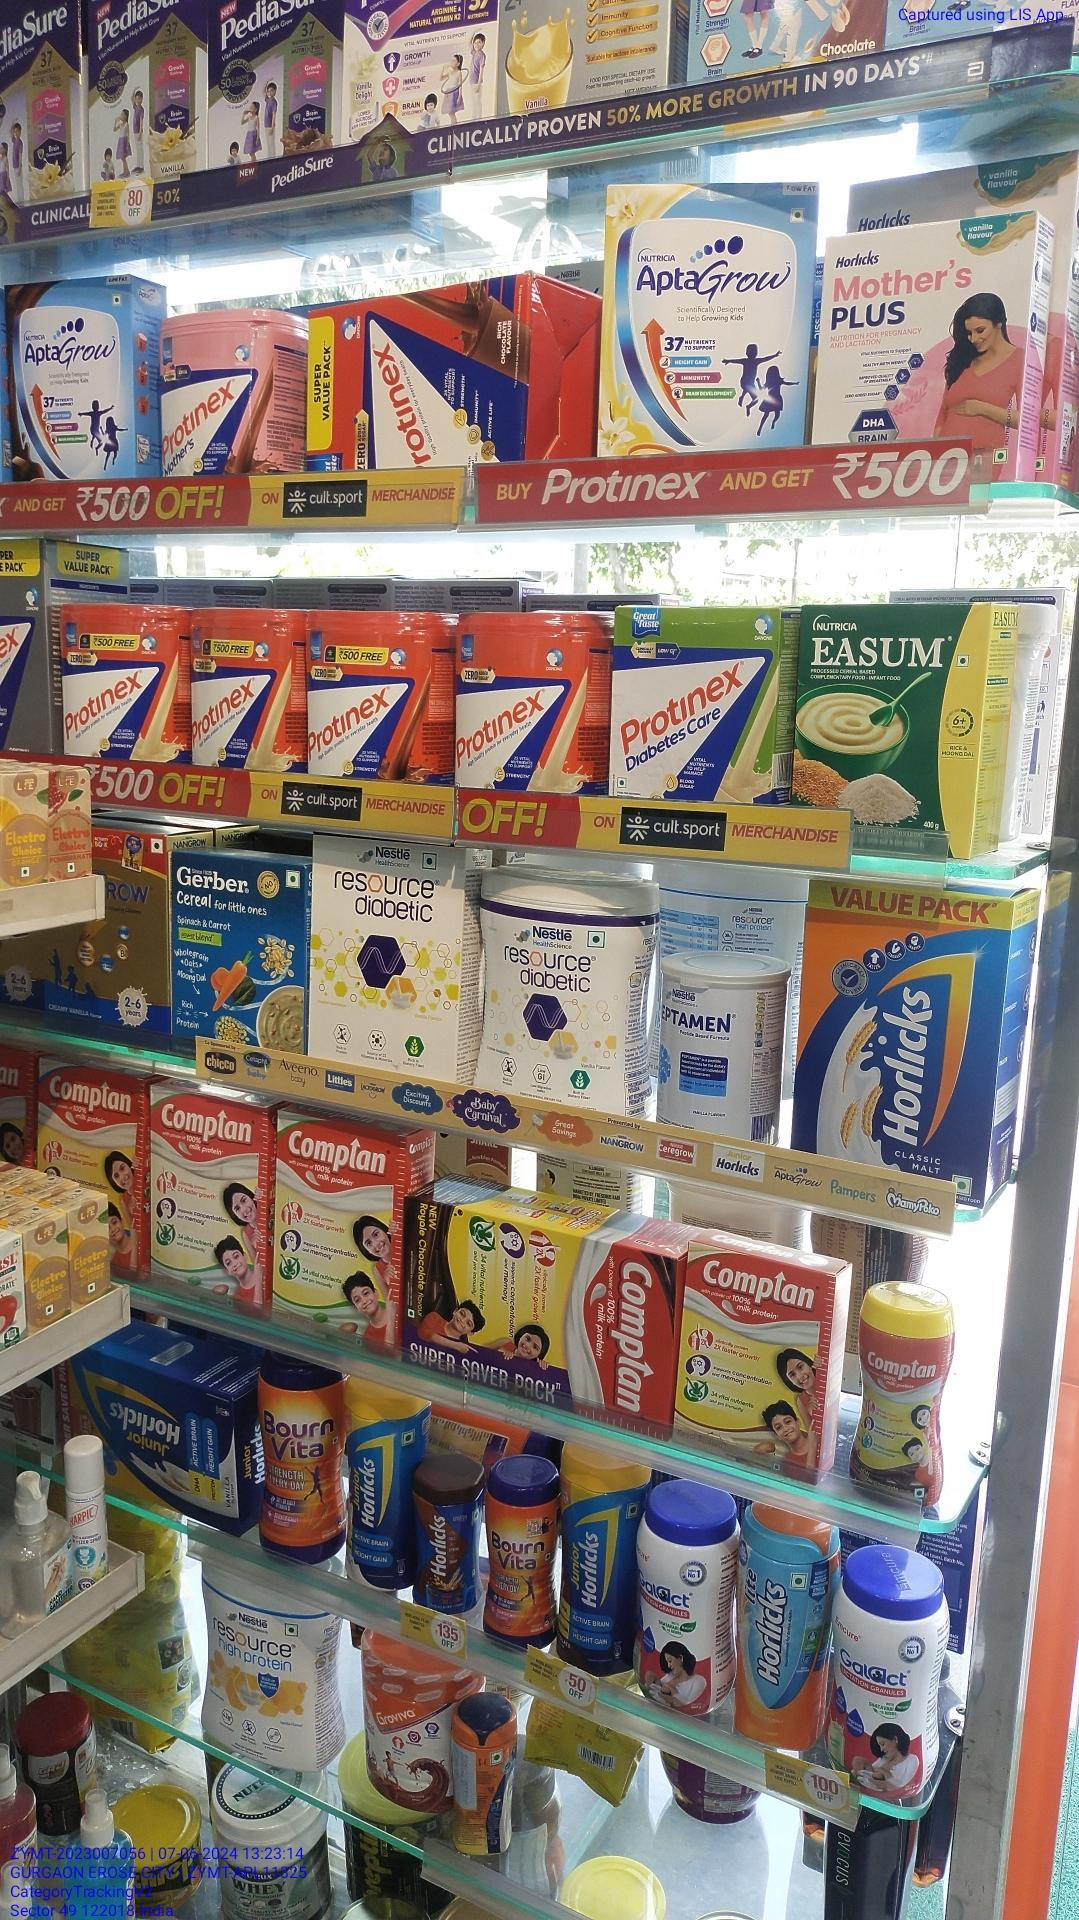HORLICKS_LITE_REGULAR_MALT_500_GM_JAR: (740, 1513, 839, 1745)
HORLICK_MALT_1_KG_CONTAINER: (111, 1369, 248, 1505)
PEDIASURE_CHOCOLATE_500_G_PACK: (216, 0, 343, 171)
PEDIASURE_VANILLA_500_G_PACK: (87, 3, 212, 177), (0, 1, 79, 207)
PROTINEX_CHOCOLATE_400_G_JAR: (313, 616, 451, 778)
PROTINEX_VANILLA_400_G_JAR: (458, 604, 605, 802), (57, 607, 195, 757), (194, 615, 299, 767)
